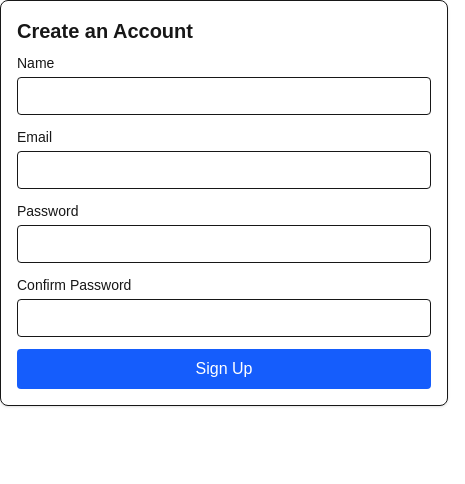
it: SignupForm › shows validation errors for invalid data
Click the button "Sign Up" at point(224, 369), box [17,349,431,389]
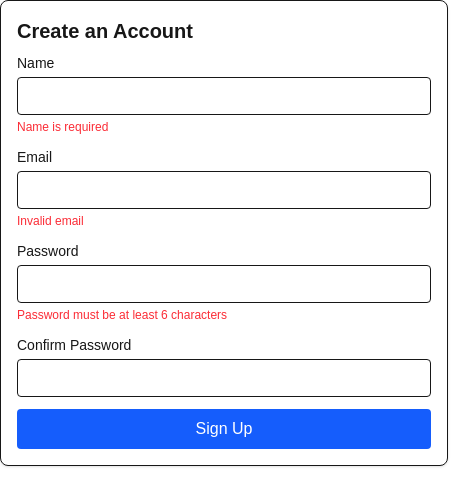
expect the text "Name is required" is shown: met, box [17,120,108,134]
expect the text "Invalid email" is shown: met, box [17,214,84,228]
